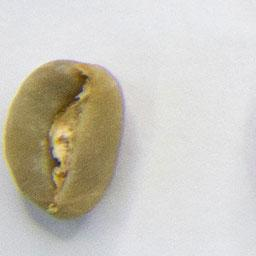longberry: (3, 55, 128, 228)
